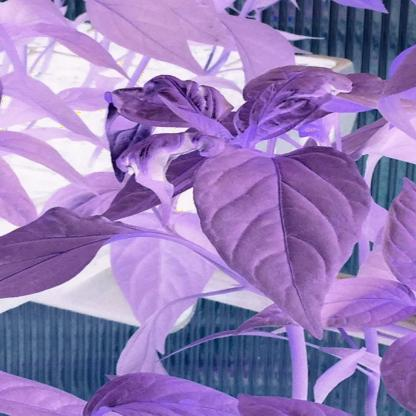Bell_pepper leaf: (193, 145, 377, 344), (3, 206, 203, 303)
